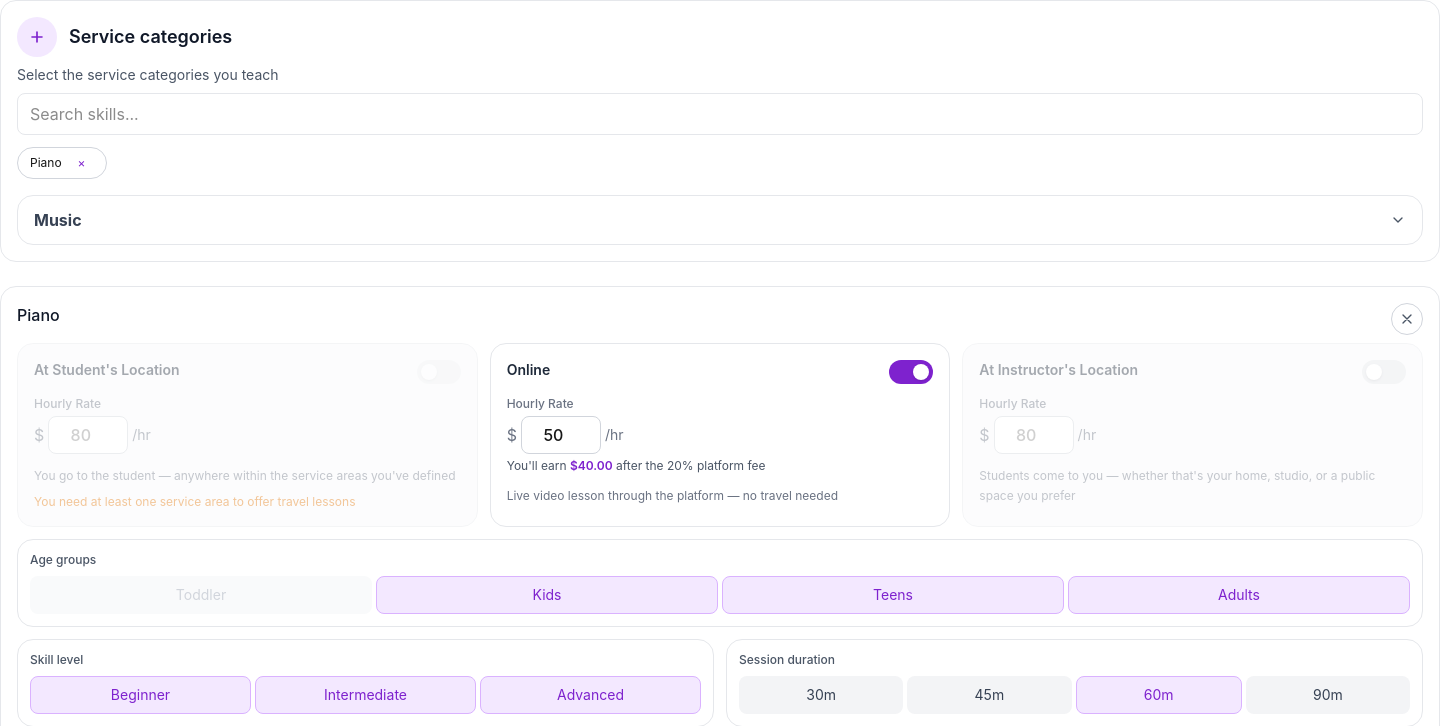
Test: SkillsPricingInline › Batch 9 — uncovered branch coverage › handles API error with empty json response
This screenshot has width=1440, height=726.
Replace the text in the 2nd number field with "55": (561, 435) [521,416,601,454]
Wait 1200 ms
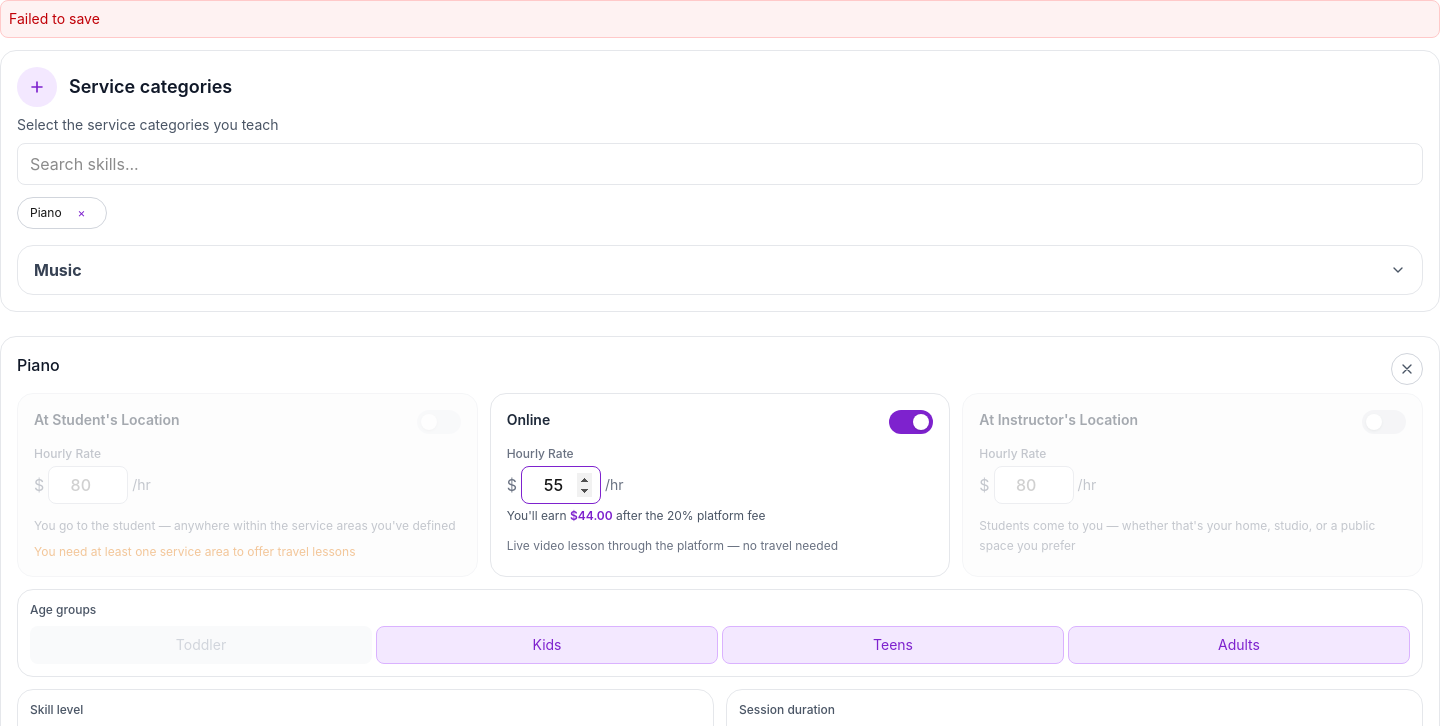
Expected: the text "Failed to save" is shown, [0,0,1439,38]
